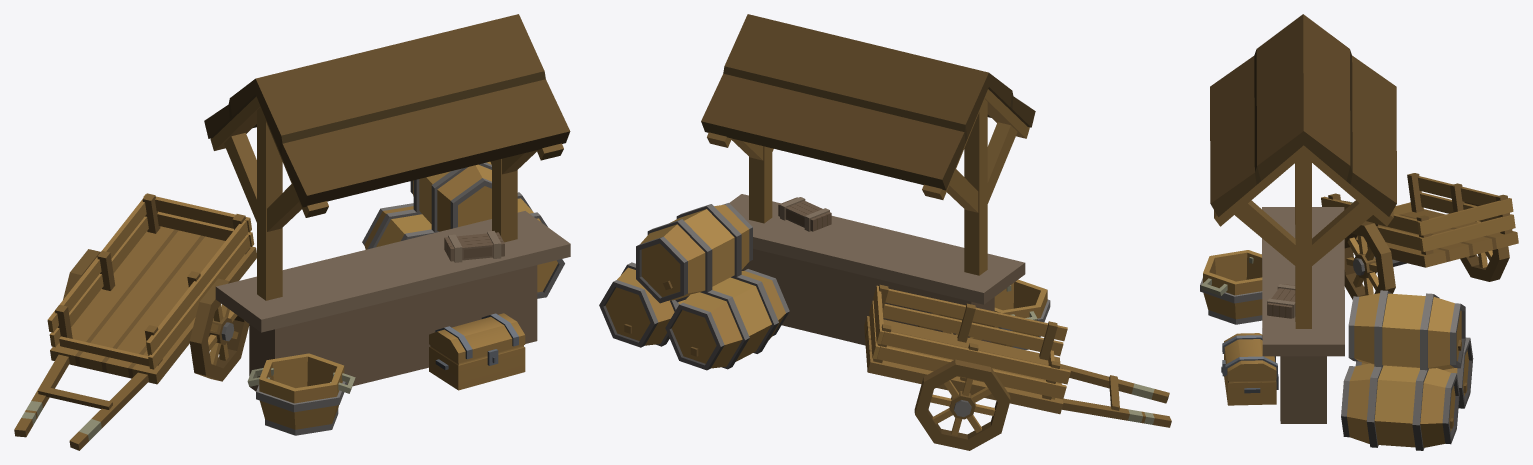
File: Stall.gltf
The picture shows the model from 3 angles, left to right: view 1: azimuth 30°, elevation 25°; view 2: azimuth 150°, elevation 25°; view 3: azimuth 270°, elevation 25°; orthographic projection. The views are drawn at different scales.
Visible parts, largest first — view 1: SF_Bld_Stall_01; view 2: SF_Bld_Stall_01; view 3: SF_Bld_Stall_01.
Part boxes in pixels (box(x1,y1,x2,y2)): SF_Bld_Stall_01: box(14, 14, 570, 450); SF_Bld_Stall_01: box(599, 14, 1171, 450); SF_Bld_Stall_01: box(1200, 14, 1518, 450).
Bounding box in the file's own units: 0.0936 × 0.0507 × 0.0497.
1 material, 1 textured.
